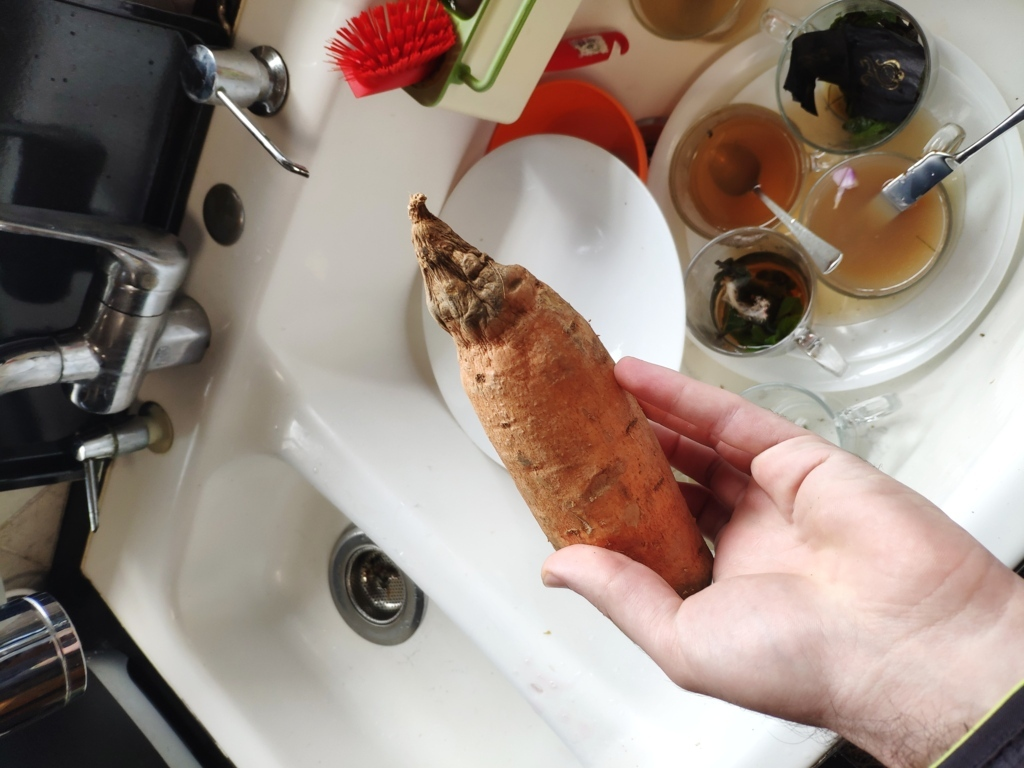Sweet Potato: (404, 186, 732, 628)
